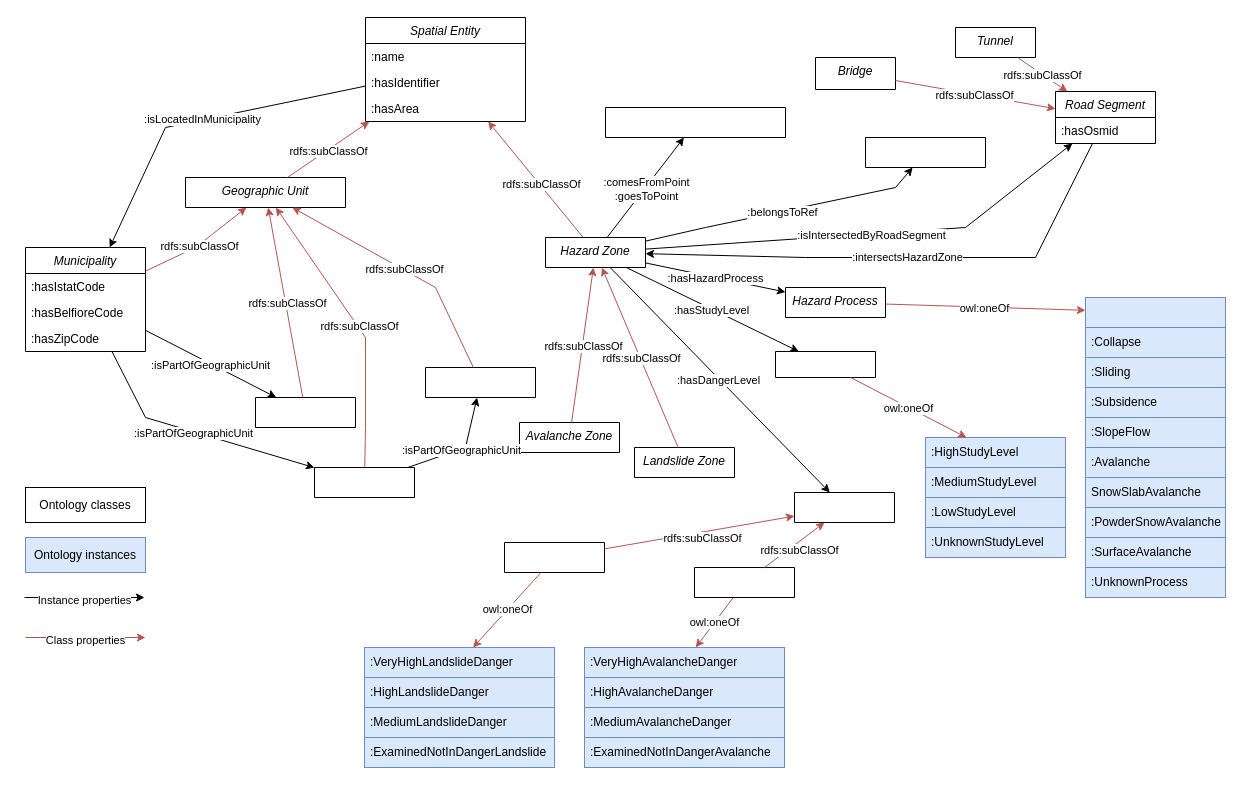
The diagram is 1243 pixels wide and 785 high, and some of its shapes have lost their labels. Each missing label, with the centre of its shape:
:Landslide: the point at 1155,312
Avalanche Dg Lvl: the point at 744,582
Danger Level: the point at 844,507
Health District: the point at 364,482
Health Region: the point at 480,382
Landslide Dg Lvl: the point at 554,557
Provincial District: the point at 305,412
Road Segment Connection Point: the point at 695,122
Route Reference: the point at 925,152
Study Level: the point at 825,364
